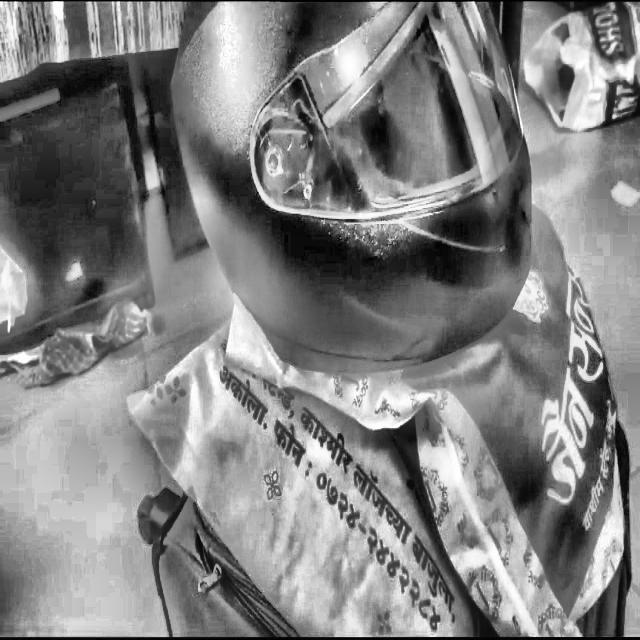Helmet: (162, 0, 536, 375)
